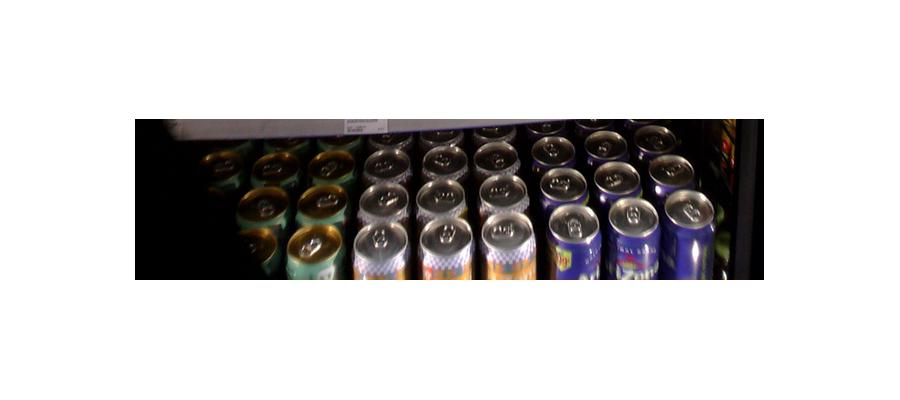bottle: (665, 184, 718, 278), (233, 179, 287, 271), (609, 194, 662, 278), (548, 200, 601, 284), (482, 204, 539, 280), (419, 203, 473, 279)
